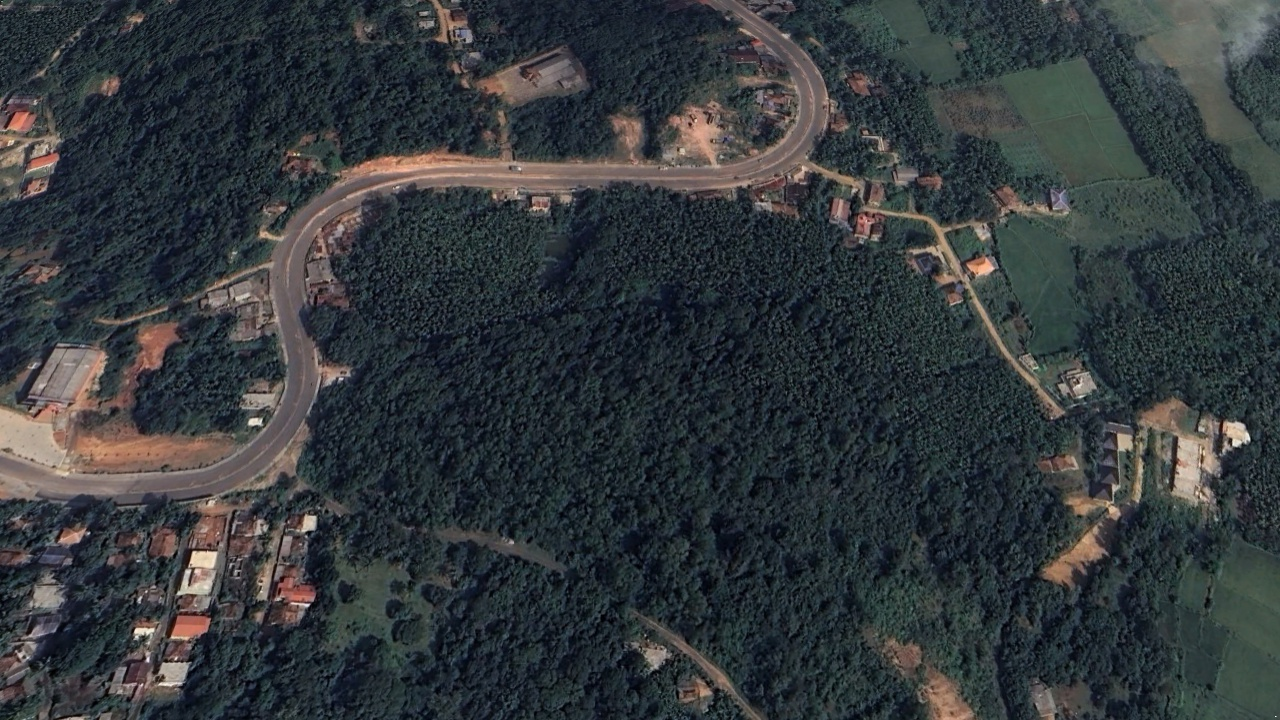arecanut: (375, 234, 945, 356), (813, 269, 1001, 457), (1091, 235, 1280, 383)
